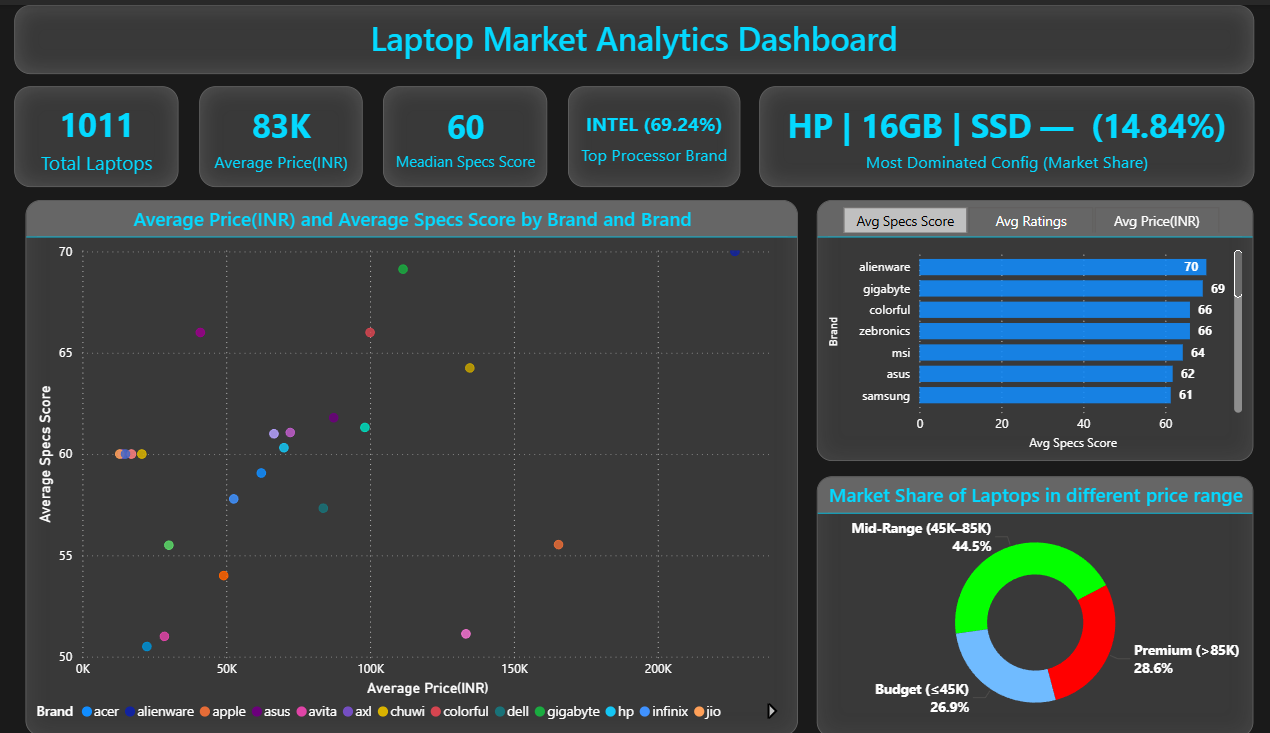

The dashboard page shown, as its layout file describes it:
{"tool":"powerbi","page":{"name":"Page 1","canvas":[1280,720],"ordinal":0},"visuals":[{"type":"textbox","box":[30.7,0,1220,67.6],"z":0},{"type":"card","fields":{"Values":["Sheet1.Total Laptops"]},"box":[30.7,80.1,162,99.4],"z":0,"group":"g1"},{"type":"card","fields":{"Values":["Sheet1.Average Price"]},"box":[212.3,80.1,160.7,99.4],"z":1000,"group":"g1"},{"type":"donutChart","title":"Market Share of Laptops in different price range","fields":{"Y":["CountNonNull(Sheet1.PriceRange)"],"Category":["Sheet1.PriceRange"]},"box":[820.9,463.8,429.5,256.4],"z":1000},{"type":"group","id":"g1","title":"Group 2","box":[30.7,80.1,1219.6,99.4],"z":3000},{"type":"card","fields":{"Values":["Sheet1.Meadian Specs Score"]},"box":[393.9,80.1,162,99.4],"z":3000,"group":"g1"},{"type":"card","fields":{"Values":["Sheet1.MostConfig_Display"]},"box":[763.2,80.1,487.1,99.4],"z":4000,"group":"g1"},{"type":"card","fields":{"Values":["Sheet1.Top Processor"]},"box":[575.5,80.1,169.3,99.4],"z":6000,"group":"g1"},{"type":"barChart","title":"   ","fields":{"Y":["Sheet1.Average Specs Score"],"Category":["Sheet1.Brand"]},"box":[820.3,192.1,429.5,256.4],"z":7000,"group":"g2"},{"type":"slicer","fields":{"Values":["Metric Parameters.Metric Parameters"]},"box":[820.3,192.1,419.6,31.9],"z":8000,"group":"g2"},{"type":"group","id":"g2","title":"Group 1","box":[820.3,192.1,429.5,256.4],"z":8001},{"type":"scatterChart","fields":{"Category":["Sheet1.Brand"],"Series":["Sheet1.Brand"],"X":["Sheet1.Average Price(INR)"],"Y":["Sheet1.Average Specs Score"]},"box":[41.8,191.9,760,527.6],"z":8002}]}

Visuals, with their boxes in screenshot pixels (x1, y1, x2, y2), scaled from the page's 1280x720 canvas onto the 1270x733 screenshot:
textbox: <region>30, 0, 1241, 69</region>
card - Sheet1.Total Laptops: <region>30, 82, 191, 183</region>
card - Sheet1.Average Price: <region>211, 82, 370, 183</region>
"Market Share of Laptops in different price range" donutChart: <region>814, 472, 1241, 732</region>
"Group 2" group: <region>30, 82, 1241, 183</region>
card - Sheet1.Meadian Specs Score: <region>391, 82, 552, 183</region>
card - Sheet1.MostConfig_Display: <region>757, 82, 1241, 183</region>
card - Sheet1.Top Processor: <region>571, 82, 739, 183</region>
"   " barChart: <region>814, 196, 1240, 457</region>
slicer - Metric Parameters.Metric Parameters: <region>814, 196, 1230, 228</region>
"Group 1" group: <region>814, 196, 1240, 457</region>
scatterChart - Sheet1.Brand x Sheet1.Brand: <region>41, 195, 796, 732</region>
